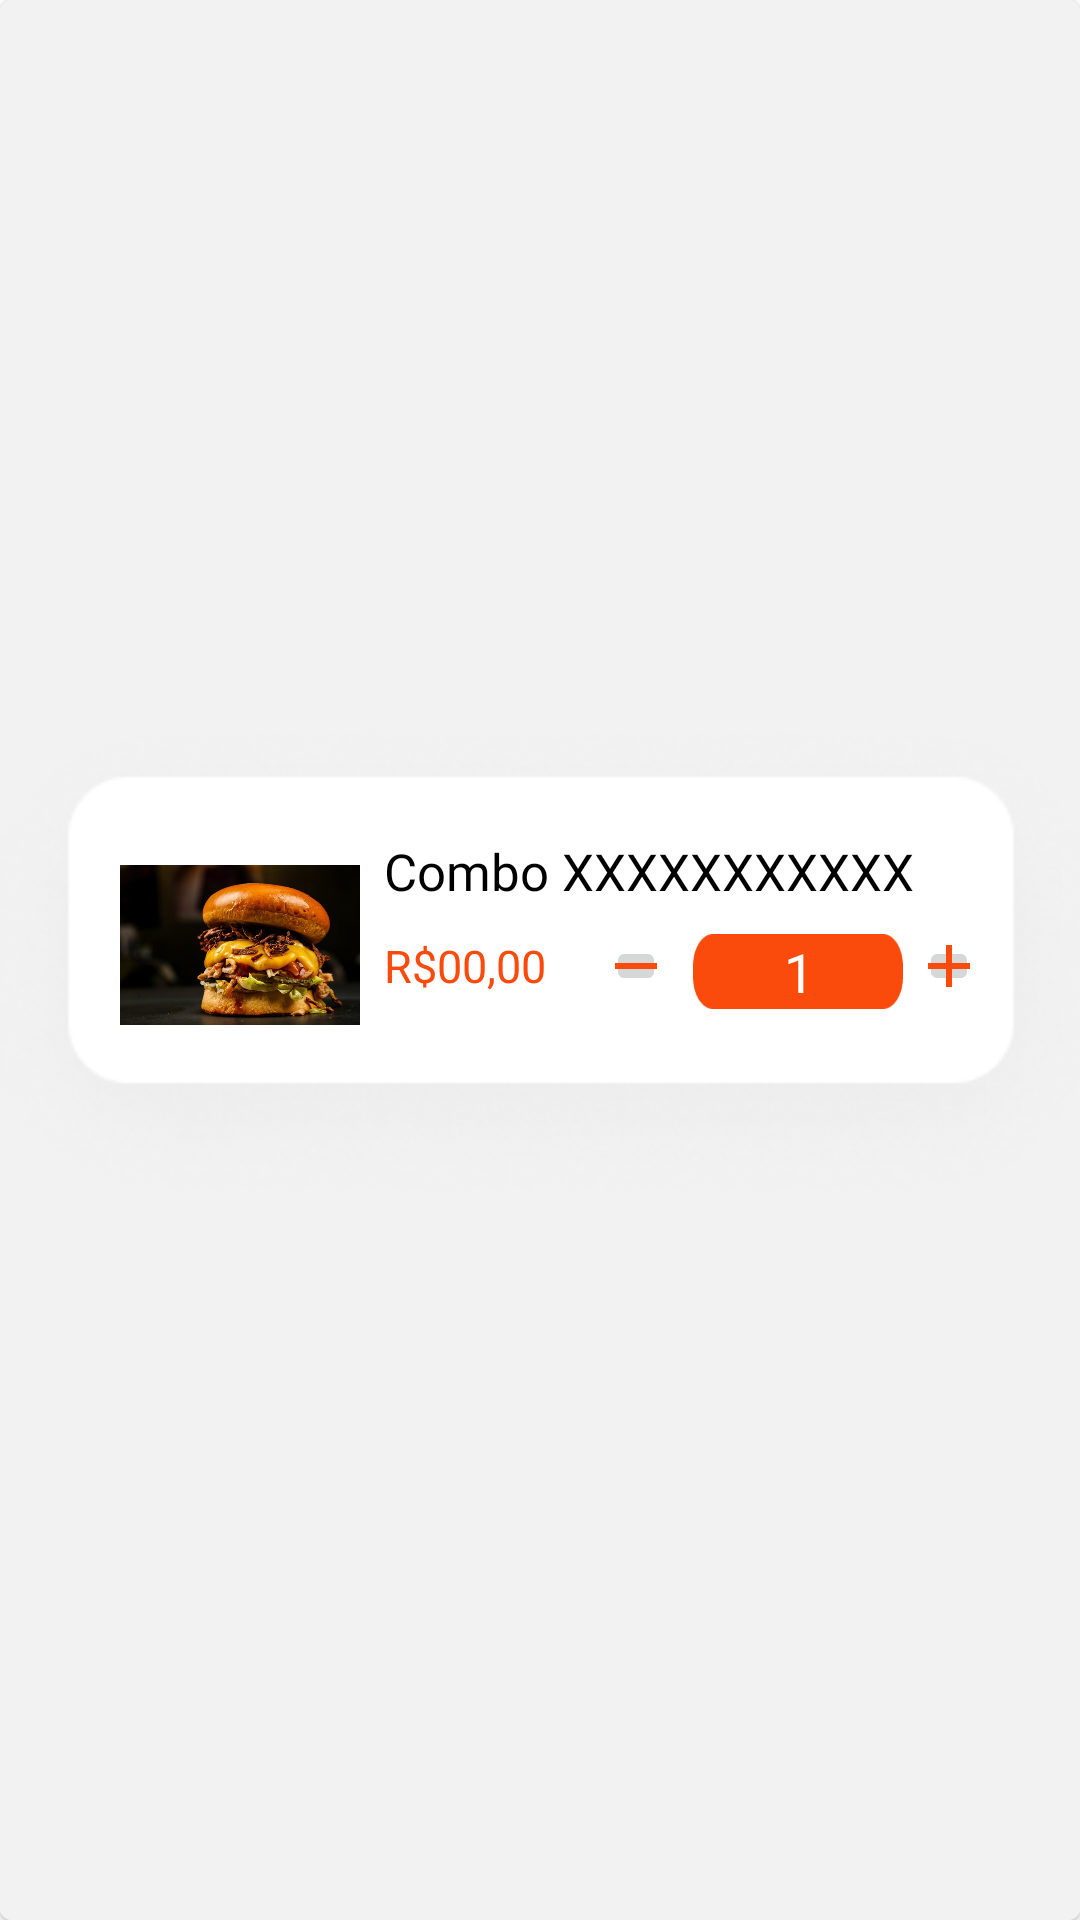

Icons on this 1080 x 1920 Android screen, each with the point to tap as (x,y):
burger: (240,945)
mais: (949,966)
menos: (636,966)
